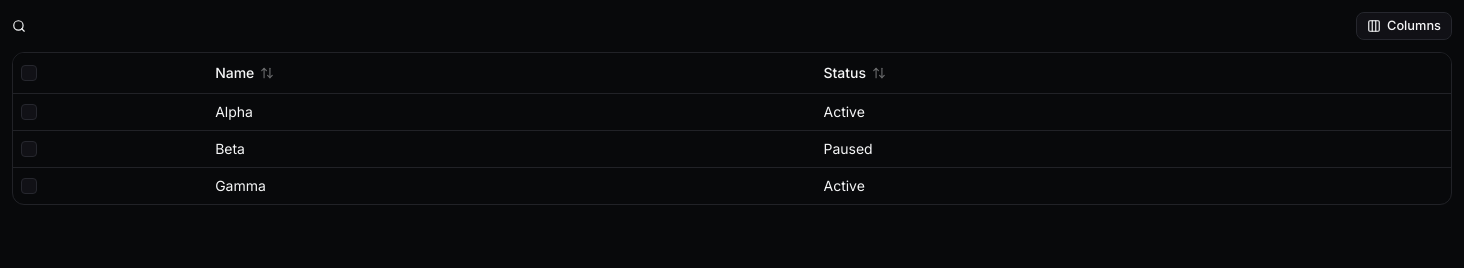
Test: DataTable › selects rows and exposes bulk actions
What coordinates should you click on to do the following:
click the checkbox named "Select row" in the row of "Alpha"
I would click on:
 (29, 112)
Its box is [21,104,37,120].
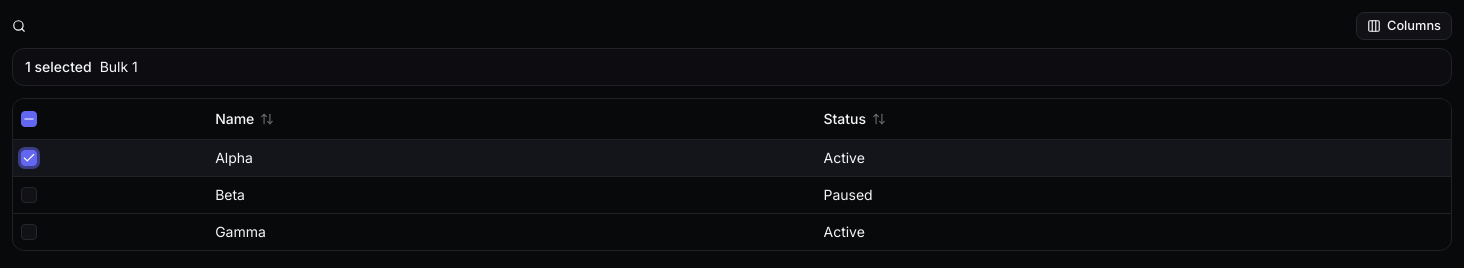
expect the text "1 selected" is shown: met, box [25,57,92,77]
expect the button "Bulk 1" is shown: met, box [100,57,138,77]
